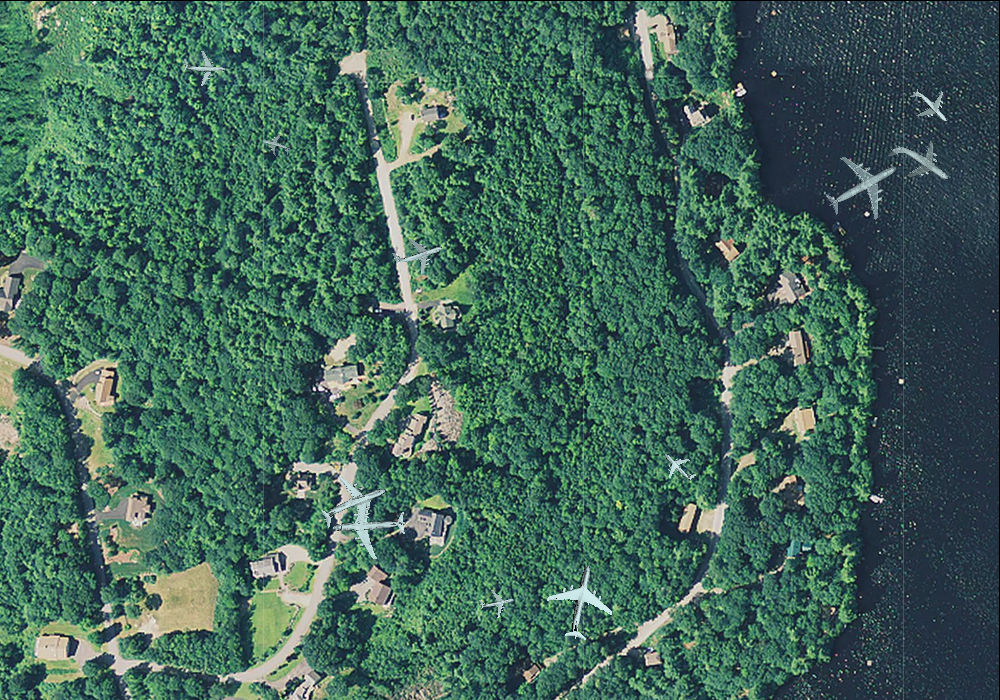plane: (812, 136, 914, 236), (538, 558, 624, 647), (310, 462, 397, 547), (878, 122, 962, 203), (330, 489, 407, 561), (900, 75, 960, 136), (386, 224, 448, 283), (654, 441, 704, 491), (182, 46, 225, 87), (476, 583, 516, 622), (258, 129, 293, 162)
